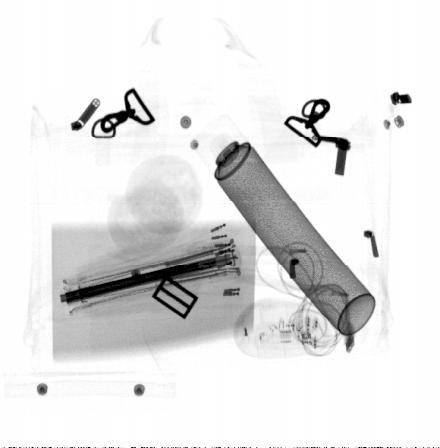Sprayer: (191, 111, 378, 338)
